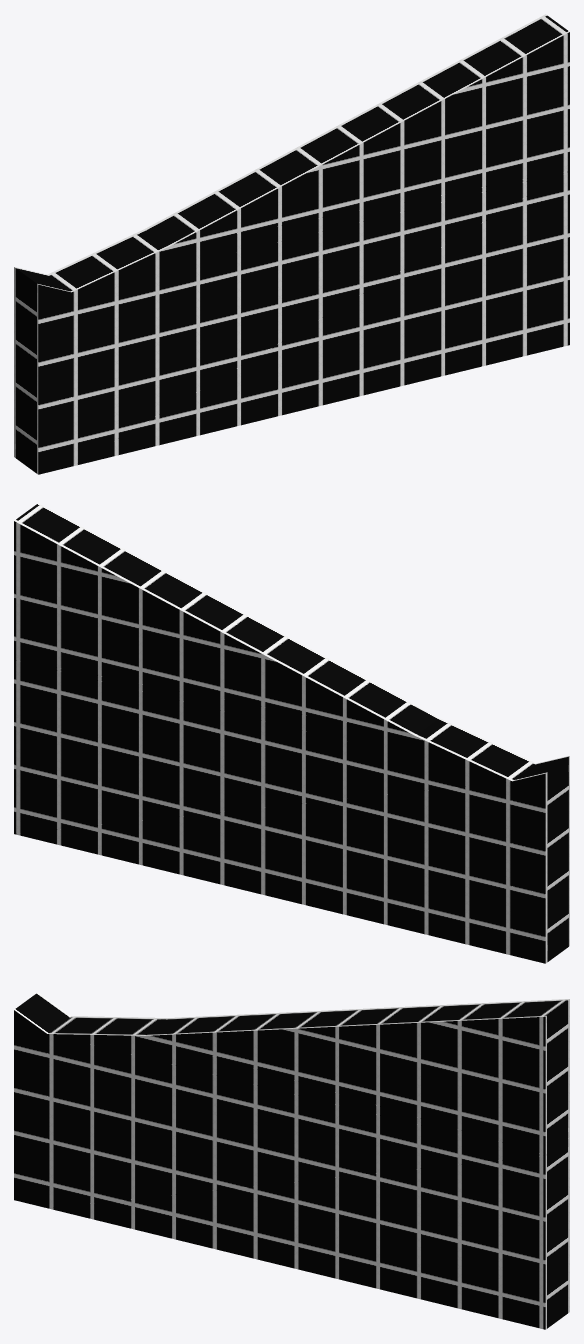
File: ramp.glb
3 views of the same model, one above another, from view 1: azimuth 30°, elevation 25°; view 2: azimuth 150°, elevation 25°; view 3: azimuth 330°, elevation 25° (orthographic).
Visible parts, largest first — view 1: Cube; view 2: Cube; view 3: Cube.
Part boxes in pixels (x1,y1,x2,y2): Cube: (14,14,569,474); Cube: (14,503,569,963); Cube: (14,992,569,1329).
Size of the model in its own units: 63.61 by 35.8 by 5.04.
1 material, 1 textured.
